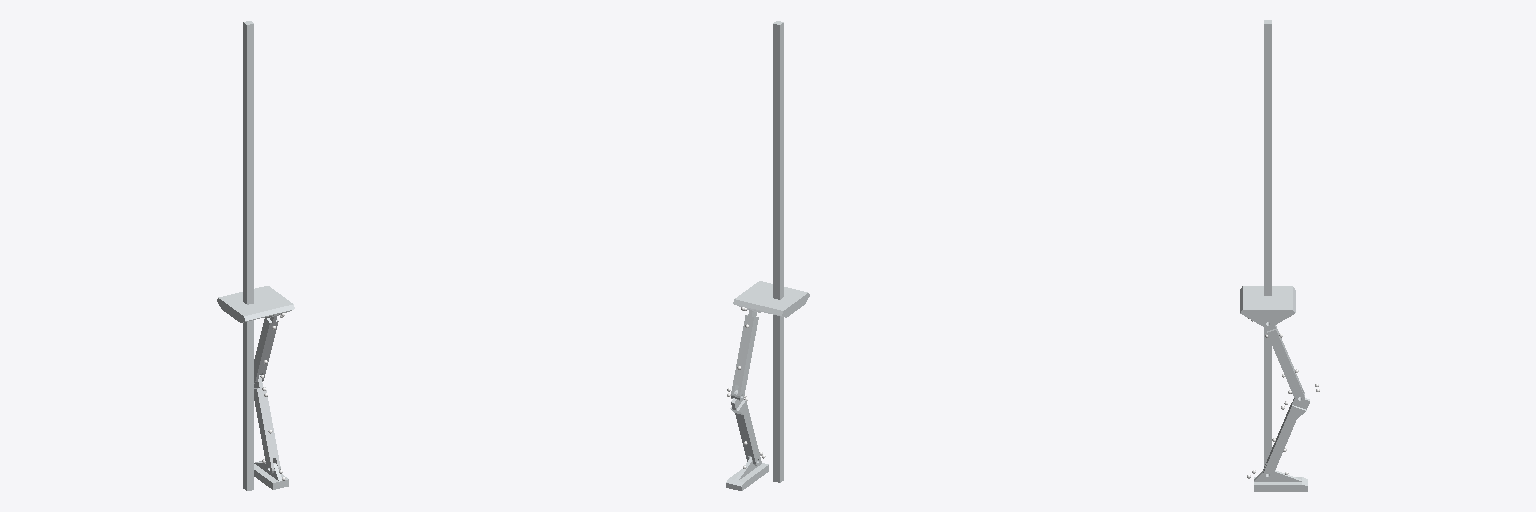
robot.urdf — hopper:
<?xml version="1.0" encoding="utf-8"?>
<!-- This URDF was automatically created by SolidWorks to URDF Exporter! Originally created by Stephen Brawner ([email redacted])  Commit Version: 1.6.0-4-g7f85cfe Build Version: 1.6.7995.38578 For more information, please see http://wiki.ros.org/sw_urdf_exporter -->
<robot name="hopper">
  <link name="base_link">
    <inertial>
      <origin xyz="-0.02 0.02 1.25" rpy="0 0 0" />
      <mass value="10" />
      <inertia ixx="5.6264" ixy="-2.7223E-19" ixz="-8.0546E-19" iyy="5.6264" iyz="2.8717E-17" izz="0.00288" />
    </inertial>
    <visual>
      <origin xyz="0 0 0" rpy="0 0 0" />
      <geometry>
        <mesh filename="../meshes/base_link.STL" />
      </geometry>
      <material name="">
        <color rgba="0.89804 0.91765 0.92941 1" />
      </material>
    </visual>
  </link>
  <link name="pelvis">
    <inertial>
      <origin xyz="0.029401 0.02 0.9724" rpy="0 0 0" />
      <mass value="22" />
      <inertia ixx="0.052666" ixy="-3.9769E-19" ixz="0.0034676" iyy="0.071815" iyz="8.3574E-19" izz="0.11746" />
    </inertial>
    <visual>
      <origin xyz="0 0 0" rpy="0 0 0" />
      <geometry>
        <mesh filename="../meshes/pelvis.STL" />
      </geometry>
      <material name="">
        <color rgba="0.89804 0.91765 0.92941 1" />
      </material>
    </visual>
    <collision>
      <origin xyz="0 0 0" rpy="0 0 0" />
      <geometry>
        <mesh filename="../meshes/pelvis.STL" />
      </geometry>
    </collision>
  </link>
  <joint name="linear" type="prismatic">
    <origin xyz="0 0 0" rpy="0 0 0" />
    <parent link="base_link" />
    <child link="pelvis" />
    <axis xyz="0 0 1" />
    <limit lower="-0.75" upper="2.5" effort="200" velocity="20" />
  </joint>
  <link name="femur">
    <inertial>
      <origin xyz="-4.6619E-18 0.083073 -0.21597" rpy="0 0 0" />
      <mass value="4" />
      <inertia ixx="0.043371" ixy="-5.7127E-20" ixz="6.3406E-19" iyy="0.03793" iyz="0.014142" izz="0.0066034" />
    </inertial>
    <visual>
      <origin xyz="0 0 0" rpy="0 0 0" />
      <geometry>
        <mesh filename="../meshes/femur.STL" />
      </geometry>
      <material name="">
        <color rgba="0.89804 0.91765 0.92941 1" />
      </material>
    </visual>
  </link>
  <link name="tibia">
    <inertial>
      <origin xyz="6.5556E-18 -0.07648 -0.20568" rpy="0 0 0" />
      <mass value="2" />
      <inertia ixx="0.049785" ixy="-3.4314E-19" ixz="-1.4937E-18" iyy="0.042507" iyz="-0.017043" izz="0.0084955" />
    </inertial>
    <visual>
      <origin xyz="0 0 0" rpy="0 0 0" />
      <geometry>
        <mesh filename="../meshes/tibia.STL" />
      </geometry>
      <material name="">
        <color rgba="0.89804 0.91765 0.92941 1" />
      </material>
    </visual>
  </link>
  <link name="foot">
    <inertial>
      <origin xyz="2.3627E-18 0.05847 -0.054713" rpy="0 0 0" />
      <mass value="0.6" />
      <inertia ixx="0.017181" ixy="1.8147E-19" ixz="-1.0244E-19" iyy="0.0027601" iyz="0.00064537" izz="0.017764" />
    </inertial>
    <visual>
      <origin xyz="0 0 0" rpy="0 0 0" />
      <geometry>
        <mesh filename="../meshes/foot.STL" />
      </geometry>
      <material name="">
        <color rgba="0.89804 0.91765 0.92941 1" />
      </material>
    </visual>
    <collision>
      <origin xyz="0 0 0" rpy="0 0 0" />
      <geometry>
        <mesh filename="../meshes/foot.STL" />
      </geometry>
    </collision>
  </link>
  <link name="soleus_b">
    <visual>
      <origin xyz="0 0 0" rpy="0 0 0" />
      <geometry>
        <sphere radius="0.01"/>
      </geometry>
      <material name="">
        <color rgba="1 1 1 1" />
      </material>
    </visual>
  </link>
  <joint name="soleus_b" type="fixed">
    <origin xyz="0 -0.068834 0.0077416" rpy="0 0 0" />
    <parent link="foot" />
    <child link="soleus_b" />
    <axis xyz="0 0 0" />
  </joint>
  <link name="tibialis_anterior_b">
    <visual>
      <origin xyz="0 0 0" rpy="0 0 0" />
      <geometry>
        <sphere radius="0.01"/>
      </geometry>
      <material name="">
        <color rgba="1 1 1 1" />
      </material>
    </visual>
  </link>
  <joint name="tibialis_anterior_b" type="fixed">
    <origin xyz="0 0.093653 -0.0016872" rpy="0 0 0" />
    <parent link="foot" />
    <child link="tibialis_anterior_b" />
    <axis xyz="0 0 0" />
  </joint>
  <link name="gastrocnemius_b">
    <visual>
      <origin xyz="0 0 0" rpy="0 0 0" />
      <geometry>
        <sphere radius="0.01"/>
      </geometry>
      <material name="">
        <color rgba="1 1 1 1" />
      </material>
    </visual>
  </link>
  <joint name="gastrocnemius_b" type="fixed">
    <origin xyz="0 -0.094718 -0.019013" rpy="0 0 0" />
    <parent link="foot" />
    <child link="gastrocnemius_b" />
    <axis xyz="0 0 0" />
  </joint>
  <link name="rectus_femoris_b">
    <visual>
      <origin xyz="0 0 0" rpy="0 0 0" />
      <geometry>
        <sphere radius="0.01"/>
      </geometry>
      <material name="">
        <color rgba="1 1 1 1" />
      </material>
    </visual>
  </link>
  <joint name="rectus_femoris_b" type="fixed">
    <origin xyz="0 0.083993 0.063018" rpy="0 0 0" />
    <parent link="tibia" />
    <child link="rectus_femoris_b" />
    <axis xyz="0 0 0" />
  </joint>
  <link name="biceps_femoris_long_b">
    <visual>
      <origin xyz="0 0 0" rpy="0 0 0" />
      <geometry>
        <sphere radius="0.01"/>
      </geometry>
      <material name="">
        <color rgba="1 1 1 1" />
      </material>
    </visual>
  </link>
  <joint name="biceps_femoris_long_b" type="fixed">
    <origin xyz="0 -0.06911 -0.034823" rpy="0 0 0" />
    <parent link="tibia" />
    <child link="biceps_femoris_long_b" />
    <axis xyz="0 0 0" />
  </joint>
  <link name="vastus_intermedius_b">
    <visual>
      <origin xyz="0 0 0" rpy="0 0 0" />
      <geometry>
        <sphere radius="0.01"/>
      </geometry>
      <material name="">
        <color rgba="1 1 1 1" />
      </material>
    </visual>
  </link>
  <joint name="vastus_intermedius_b" type="fixed">
    <origin xyz="0 0.088351 0.035621" rpy="0 0 0" />
    <parent link="tibia" />
    <child link="vastus_intermedius_b" />
    <axis xyz="0 0 0" />
  </joint>
  <link name="biceps_femoris_short_b">
    <visual>
      <origin xyz="0 0 0" rpy="0 0 0" />
      <geometry>
        <sphere radius="0.01"/>
      </geometry>
      <material name="">
        <color rgba="1 1 1 1" />
      </material>
    </visual>
  </link>
  <joint name="biceps_femoris_short_b" type="fixed">
    <origin xyz="0 -0.085983 -0.059535" rpy="0 0 0" />
    <parent link="tibia" />
    <child link="biceps_femoris_short_b" />
    <axis xyz="0 0 0" />
  </joint>
  <link name="soleus_a">
    <visual>
      <origin xyz="0 0 0" rpy="0 0 0" />
      <geometry>
        <sphere radius="0.01"/>
      </geometry>
      <material name="">
        <color rgba="1 1 1 1" />
      </material>
    </visual>
  </link>
  <joint name="soleus_a" type="fixed">
    <origin xyz="0 -0.12918 -0.23741" rpy="0 0 0" />
    <parent link="tibia" />
    <child link="soleus_a" />
    <axis xyz="0 0 0" />
  </joint>
  <link name="tibialis_anterior_a">
    <visual>
      <origin xyz="0 0 0" rpy="0 0 0" />
      <geometry>
        <sphere radius="0.01"/>
      </geometry>
      <material name="">
        <color rgba="1 1 1 1" />
      </material>
    </visual>
  </link>
  <joint name="tibialis_anterior_a" type="fixed">
    <origin xyz="0 -0.077455 -0.2939" rpy="0 0 0" />
    <parent link="tibia" />
    <child link="tibialis_anterior_a" />
    <axis xyz="0 0 0" />
  </joint>
  <link name="psoas_major_b">
    <visual>
      <origin xyz="0 0 0" rpy="0 0 0" />
      <geometry>
        <sphere radius="0.01"/>
      </geometry>
      <material name="">
        <color rgba="1 1 1 1" />
      </material>
    </visual>
  </link>
  <joint name="psoas_major_b" type="fixed">
    <origin xyz="0 0.06741 -0.082798" rpy="0 0 0" />
    <parent link="femur" />
    <child link="psoas_major_b" />
    <axis xyz="0 0 0" />
  </joint>
  <link name="gluteus_maximus_b">
    <visual>
      <origin xyz="0 0 0" rpy="0 0 0" />
      <geometry>
        <sphere radius="0.01"/>
      </geometry>
      <material name="">
        <color rgba="1 1 1 1" />
      </material>
    </visual>
  </link>
  <joint name="gluteus_maximus_b" type="fixed">
    <origin xyz="0 -0.0027816 -0.085594" rpy="0 0 0" />
    <parent link="femur" />
    <child link="gluteus_maximus_b" />
    <axis xyz="0 0 0" />
  </joint>
  <link name="vastus_intermedius_a">
    <visual>
      <origin xyz="0 0 0" rpy="0 0 0" />
      <geometry>
        <sphere radius="0.01"/>
      </geometry>
      <material name="">
        <color rgba="1 1 1 1" />
      </material>
    </visual>
  </link>
  <joint name="vastus_intermedius_a" type="fixed">
    <origin xyz="0 0.14477 -0.27901" rpy="0 0 0" />
    <parent link="femur" />
    <child link="vastus_intermedius_a" />
    <axis xyz="0 0 0" />
  </joint>
  <link name="biceps_femoris_short_a">
    <visual>
      <origin xyz="0 0 0" rpy="0 0 0" />
      <geometry>
        <sphere radius="0.01"/>
      </geometry>
      <material name="">
        <color rgba="1 1 1 1" />
      </material>
    </visual>
  </link>
  <joint name="biceps_femoris_short_a" type="fixed">
    <origin xyz="0 0.078915 -0.30262" rpy="0 0 0" />
    <parent link="femur" />
    <child link="biceps_femoris_short_a" />
    <axis xyz="0 0 0" />
  </joint>
  <link name="gastrocnemius_a">
    <visual>
      <origin xyz="0 0 0" rpy="0 0 0" />
      <geometry>
        <sphere radius="0.01"/>
      </geometry>
      <material name="">
        <color rgba="1 1 1 1" />
      </material>
    </visual>
  </link>
  <joint name="gastrocnemius_a" type="fixed">
    <origin xyz="0 0.11071 -0.39415" rpy="0 0 0" />
    <parent link="femur" />
    <child link="gastrocnemius_a" />
    <axis xyz="0 0 0" />
  </joint>
  <link name="rectus_femoris_a">
    <visual>
      <origin xyz="0 0 0" rpy="0 0 0" />
      <geometry>
        <sphere radius="0.01"/>
      </geometry>
      <material name="">
        <color rgba="1 1 1 1" />
      </material>
    </visual>
  </link>
  <joint name="rectus_femoris_a" type="fixed">
    <origin xyz="0.12 0.12868 0.95077" rpy="0 0 0" />
    <parent link="pelvis" />
    <child link="rectus_femoris_a" />
    <axis xyz="0 0 0" />
  </joint>
  <link name="psoas_major_a">
    <visual>
      <origin xyz="0 0 0" rpy="0 0 0" />
      <geometry>
        <sphere radius="0.01"/>
      </geometry>
      <material name="">
        <color rgba="1 1 1 1" />
      </material>
    </visual>
  </link>
  <joint name="psoas_major_a" type="fixed">
    <origin xyz="0.12 0.1092 0.93986" rpy="0 0 0" />
    <parent link="pelvis" />
    <child link="psoas_major_a" />
    <axis xyz="0 0 0" />
  </joint>
  <link name="gluteus_maximus_a">
    <visual>
      <origin xyz="0 0 0" rpy="0 0 0" />
      <geometry>
        <sphere radius="0.01"/>
      </geometry>
      <material name="">
        <color rgba="1 1 1 1" />
      </material>
    </visual>
  </link>
  <joint name="gluteus_maximus_a" type="fixed">
    <origin xyz="0.12 -0.055976 0.9258" rpy="0 0 0" />
    <parent link="pelvis" />
    <child link="gluteus_maximus_a" />
    <axis xyz="0 0 0" />
  </joint>
  <link name="biceps_femoris_long_a">
    <visual>
      <origin xyz="0 0 0" rpy="0 0 0" />
      <geometry>
        <sphere radius="0.01"/>
      </geometry>
      <material name="">
        <color rgba="1 1 1 1" />
      </material>
    </visual>
  </link>
  <joint name="biceps_femoris_long_a" type="fixed">
    <origin xyz="0.12 -0.072035 0.93986" rpy="0 0 0" />
    <parent link="pelvis" />
    <child link="biceps_femoris_long_a" />
    <axis xyz="0 0 0" />
  </joint>
  <joint name="hipjoint" type="revolute">
    <origin xyz="0.12 0.02 0.92" rpy="0 0 0" />
    <parent link="pelvis" />
    <child link="femur" />
    <axis xyz="-1 0 0" />
    <limit lower="-0.7" upper="1.3" effort="200" velocity="20" />
  </joint>
  <joint name="kneejoint" type="revolute">
    <origin xyz="0 0.16155 -0.42" rpy="0 0 0" />
    <parent link="femur" />
    <child link="tibia" />
    <axis xyz="-1 0 0" />
    <limit lower="-0.7" upper="1.5" effort="200" velocity="20" />
  </joint>
  <joint name="anklejoint" type="revolute">
    <origin xyz="0 -0.16155 -0.42" rpy="0 0 0" />
    <parent link="tibia" />
    <child link="foot" />
    <axis xyz="-1 0 0" />
    <limit lower="-0.9" upper="1.2" effort="200" velocity="20" />
  </joint>
</robot>

--- What the picture shows (computed from the rendered views, not written in the file) ---
Views: 3 orthographic renders of the robot side by side, from view 1: azimuth 30°, elevation 25°; view 2: azimuth 150°, elevation 25°; view 3: azimuth 270°, elevation 25°.
Robot: hopper — 23 links, 22 joints (3 revolute, 1 prismatic, 18 fixed); root link base_link; default pose: all joints at 0.
Links seen in each view (by area): view 1: base_link, pelvis, tibia, femur, foot; view 2: base_link, pelvis, femur, tibia, foot; view 3: base_link, pelvis, tibia, femur, foot.
Link boxes in pixels (<box>): base_link: <box>243,21,253,490</box>; pelvis: <box>217,286,294,322</box>; tibia: <box>254,375,280,473</box>; femur: <box>254,315,278,383</box>; foot: <box>254,461,288,489</box>; base_link: <box>773,21,783,482</box>; pelvis: <box>733,281,809,317</box>; femur: <box>731,309,758,400</box>; tibia: <box>730,390,760,465</box>; foot: <box>726,457,768,490</box>; base_link: <box>1264,20,1271,465</box>; pelvis: <box>1240,286,1295,328</box>; tibia: <box>1263,394,1309,479</box>; femur: <box>1265,322,1304,403</box>; foot: <box>1254,470,1307,491</box>.
Size in the robot's own frame: 0.285 by 0.3984 by 2.5 metres.
Meshes: 5 distinct files referenced, 5 mesh visuals loaded (5 binary STL).
